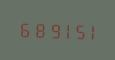eight: (30, 19, 42, 39)
five: (70, 20, 82, 40)
nine: (44, 19, 56, 39)
one: (57, 19, 69, 40), (83, 20, 95, 41)
six: (17, 18, 29, 39)
